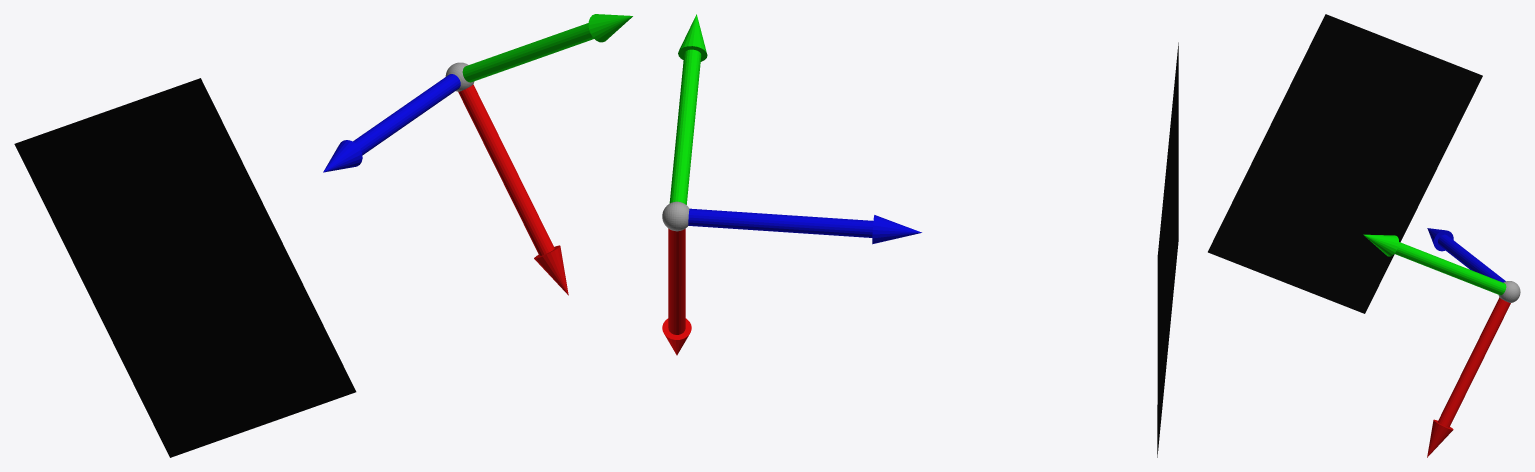
3 renders of one model, left to right at view 1: azimuth 30°, elevation 25°; view 2: azimuth 150°, elevation 25°; view 3: azimuth 270°, elevation 25°, orthographic. The views are drawn at different scales.
Bounding box in the file's own units: 0.3164 × 0.2227 × 0.2094.
